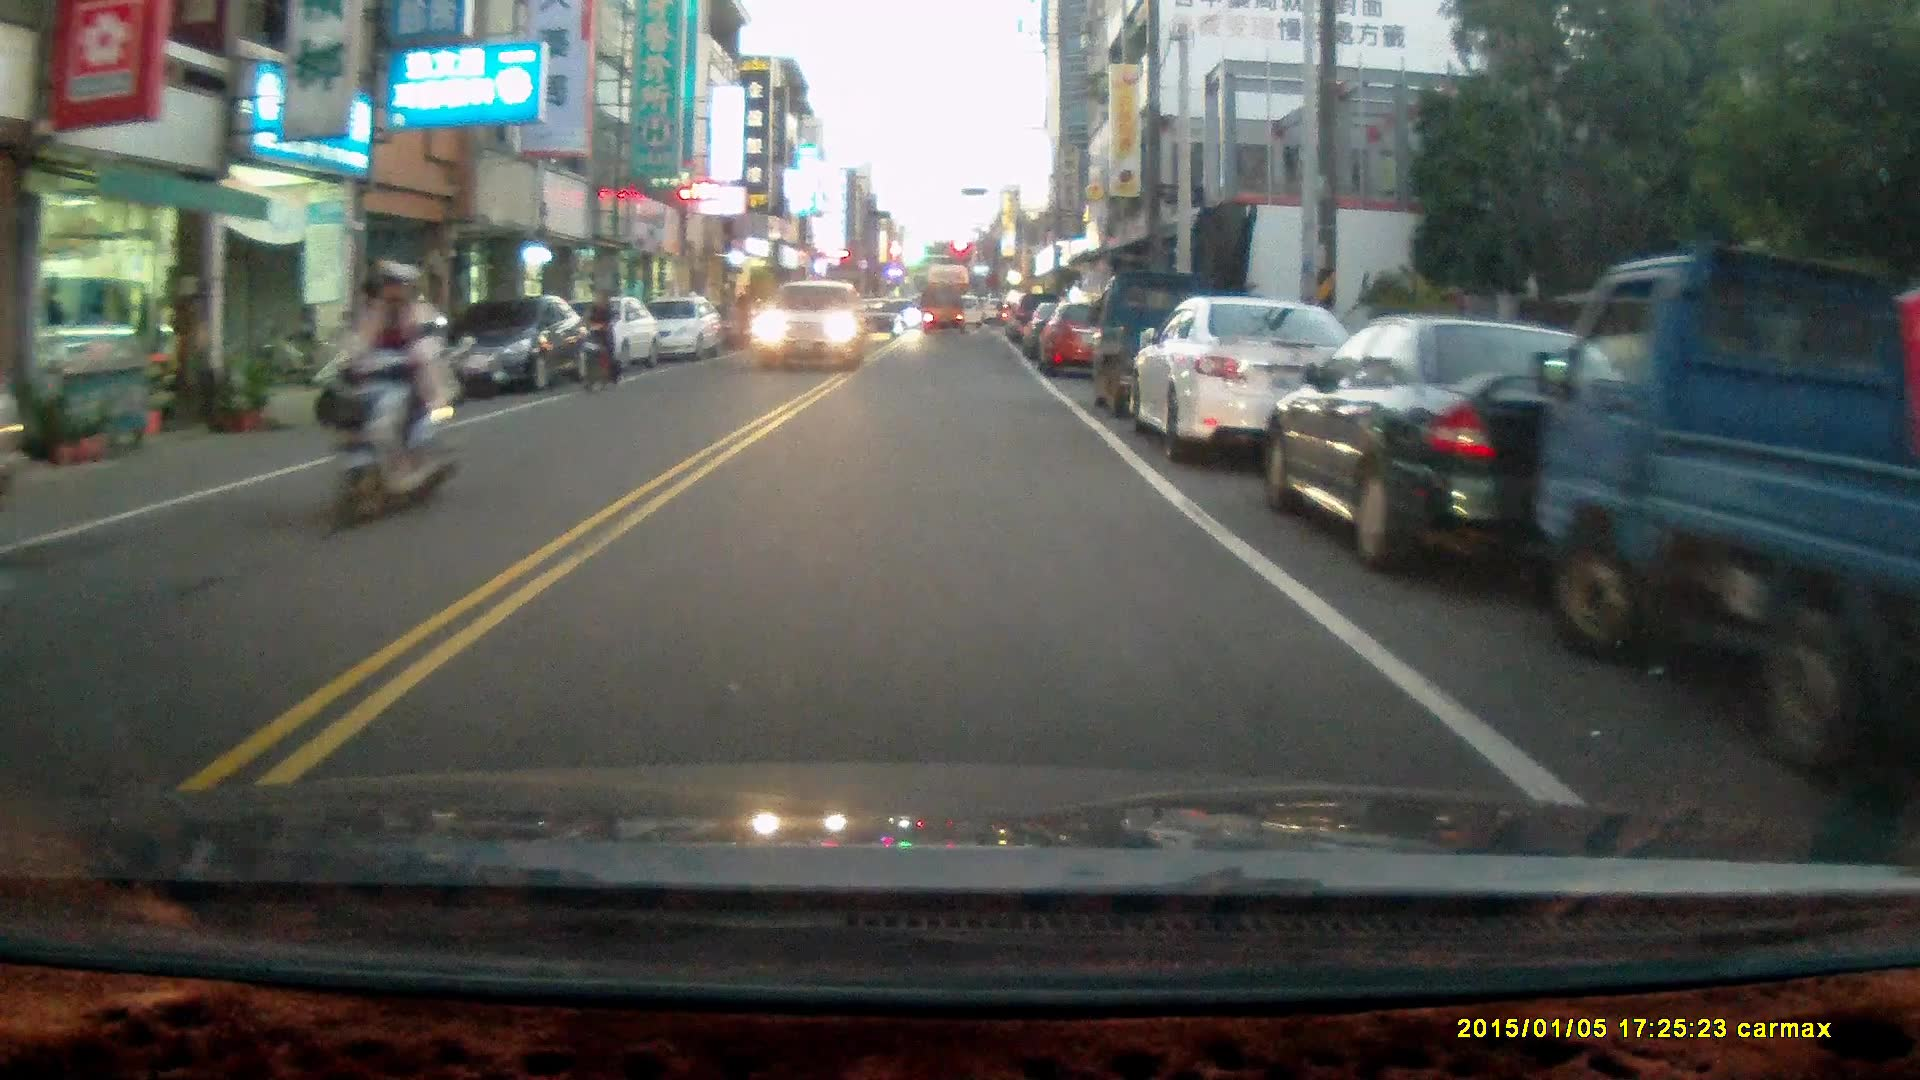rider: (329, 258, 464, 528), (576, 286, 620, 392)
vehicle: (1539, 247, 1920, 780), (1260, 316, 1705, 579), (1130, 294, 1366, 464), (1088, 263, 1255, 433), (445, 299, 590, 397), (752, 279, 868, 369), (1035, 301, 1130, 379), (636, 296, 726, 364), (849, 296, 908, 343), (919, 283, 965, 336)
